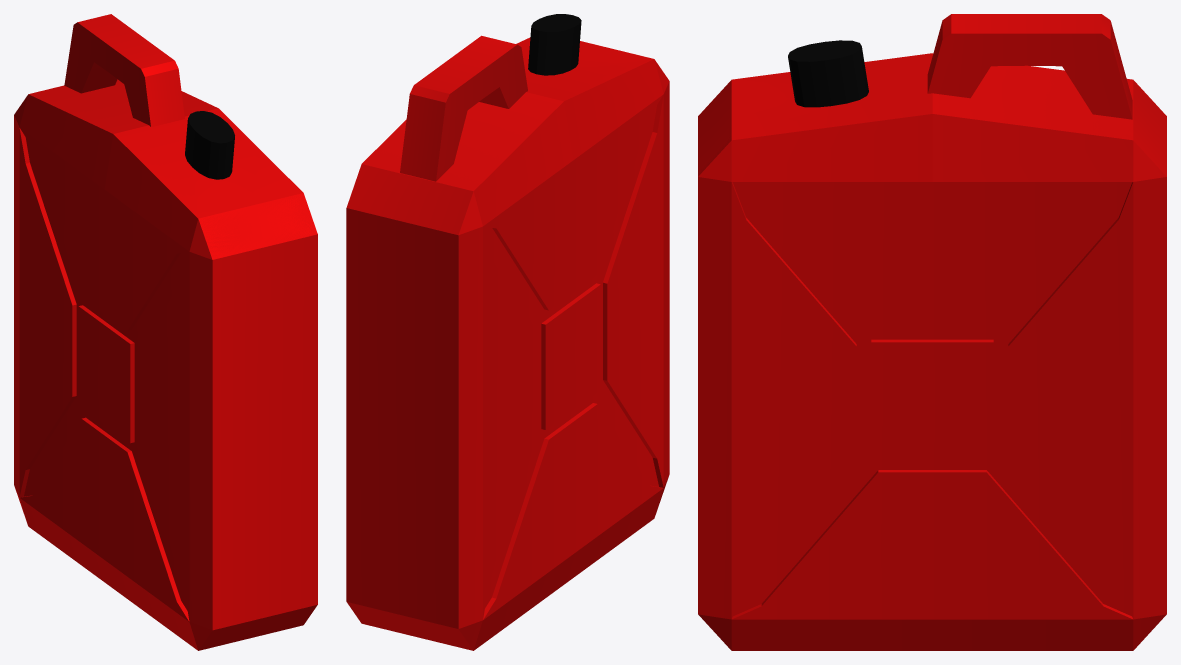
File: SM_Int_Gasoline_01.fbx
The picture shows the model from 3 angles, left to right: view 1: azimuth 30°, elevation 25°; view 2: azimuth 150°, elevation 25°; view 3: azimuth 270°, elevation 25°; orthographic projection. The views are drawn at different scales.
Parts seen in each view (by area): view 1: SM_Int_Gasoline_01; view 2: SM_Int_Gasoline_01; view 3: SM_Int_Gasoline_01.
Boxes of the visible parts, x1,y1,x2,y2 form: SM_Int_Gasoline_01: (14, 14, 317, 650); SM_Int_Gasoline_01: (346, 14, 669, 650); SM_Int_Gasoline_01: (698, 14, 1166, 650).
Bounding box in the file's own units: 35.36 × 139 × 98.82.
